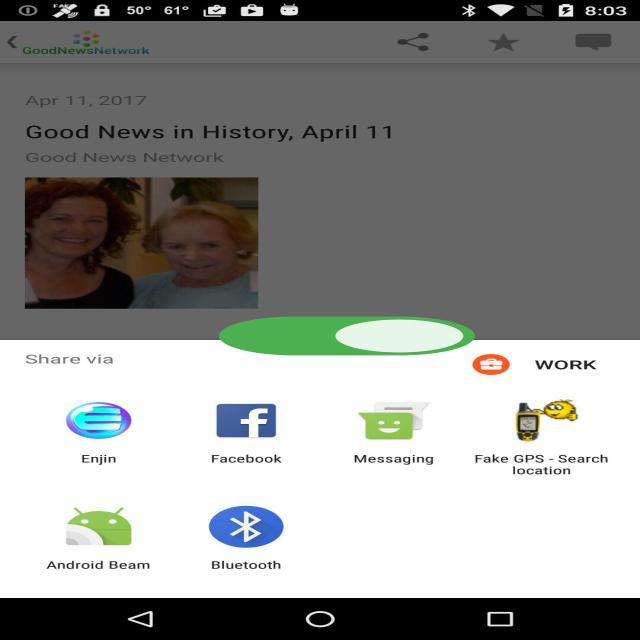social proof: (208, 302, 487, 373)
